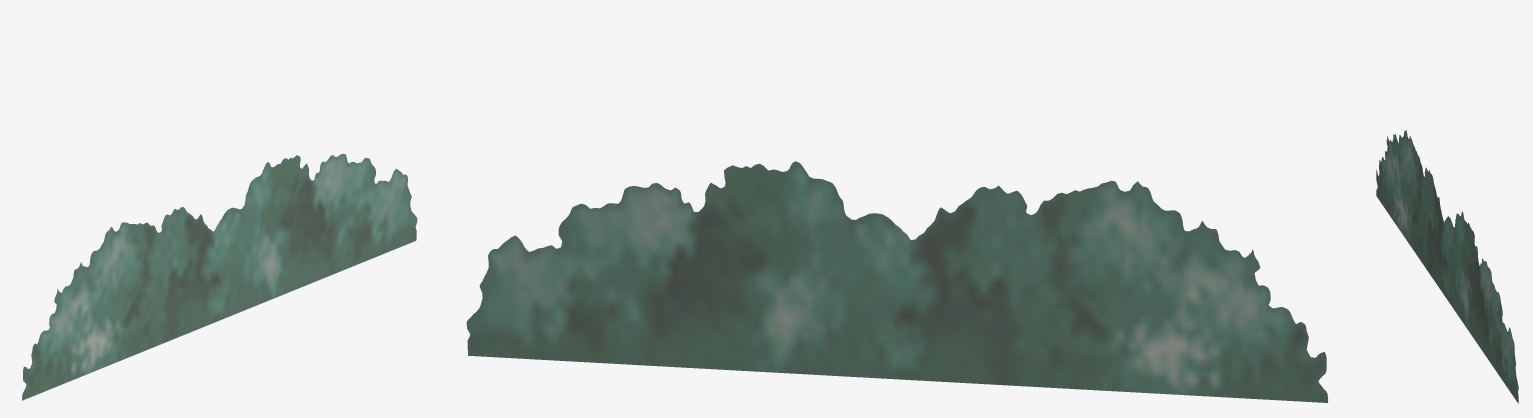
The model's file is sucai_27.FBX.
3 views of the same model, side by side, from view 1: azimuth 30°, elevation 25°; view 2: azimuth 150°, elevation 25°; view 3: azimuth 270°, elevation 25° (orthographic). The views are drawn at different scales.
Parts seen in each view (by area): view 1: sucai_27; view 2: sucai_27; view 3: sucai_27.
Boxes of the visible parts, x1,y1,x2,y2 form: sucai_27: (22, 153, 417, 400); sucai_27: (466, 161, 1328, 402); sucai_27: (1376, 130, 1518, 403).
Bounding box in the file's own units: 45.38 × 14.07 × 21.35.
